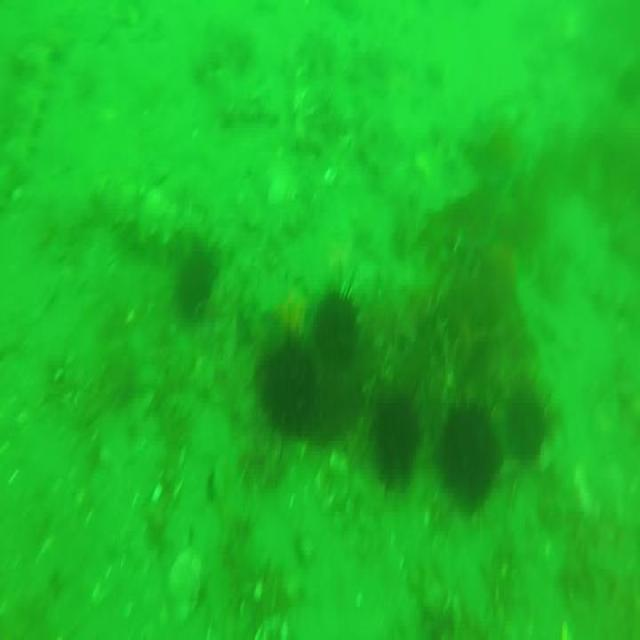echinus: (438, 400, 499, 507), (264, 326, 323, 433), (372, 378, 422, 501), (313, 285, 368, 376), (505, 389, 557, 471), (176, 248, 220, 316)
holothurian: (96, 172, 203, 255), (0, 46, 48, 220)
scallop: (170, 552, 201, 638)
